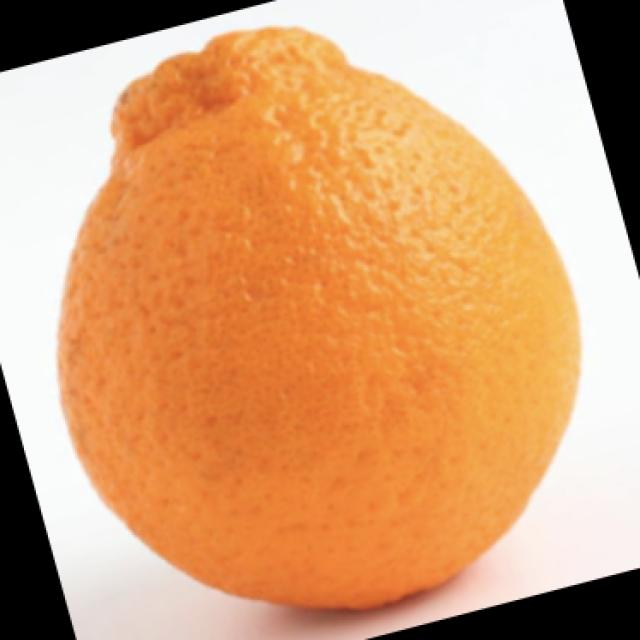matang: (59, 26, 581, 612)
